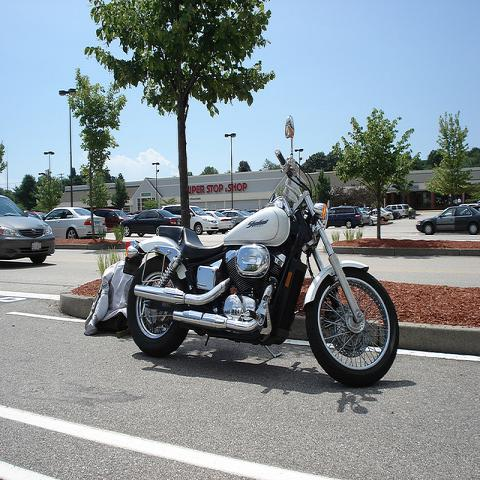car: (0, 193, 56, 264), (43, 205, 107, 238), (418, 204, 480, 235), (120, 209, 182, 237), (189, 205, 219, 236), (326, 206, 363, 229), (92, 208, 130, 227), (207, 210, 232, 234), (220, 210, 248, 228), (371, 206, 393, 226), (360, 210, 371, 226), (396, 205, 409, 218)
motorcycle: (124, 117, 402, 388)
